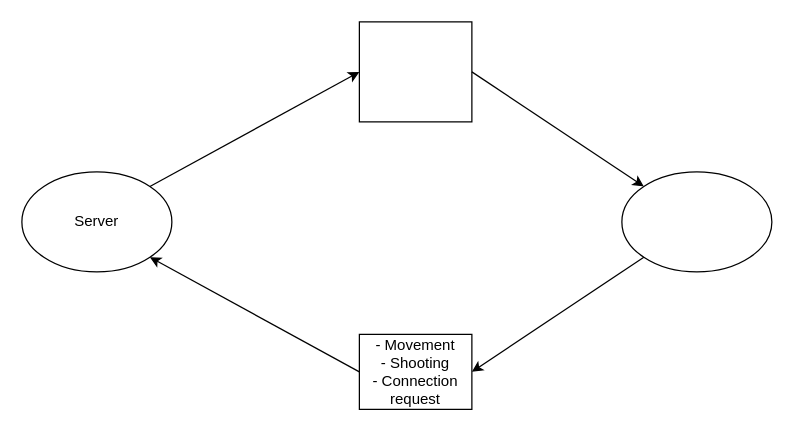
Some shapes in this 794 by 431 pixel diagram are drawn without their labels. Here are the shapes that lost their labels. From the top down, the centre of each, then its label:
At point (415, 71): "- Names - Positions - Missiles - Enemies".
At point (696, 221): "Client".
